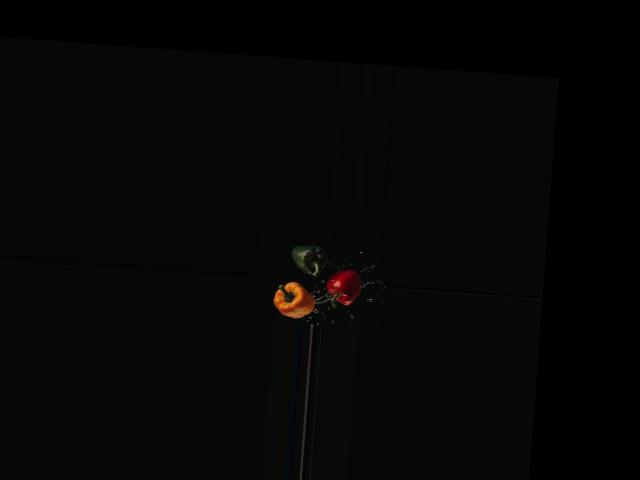bell_pepper: (318, 260, 363, 315)
